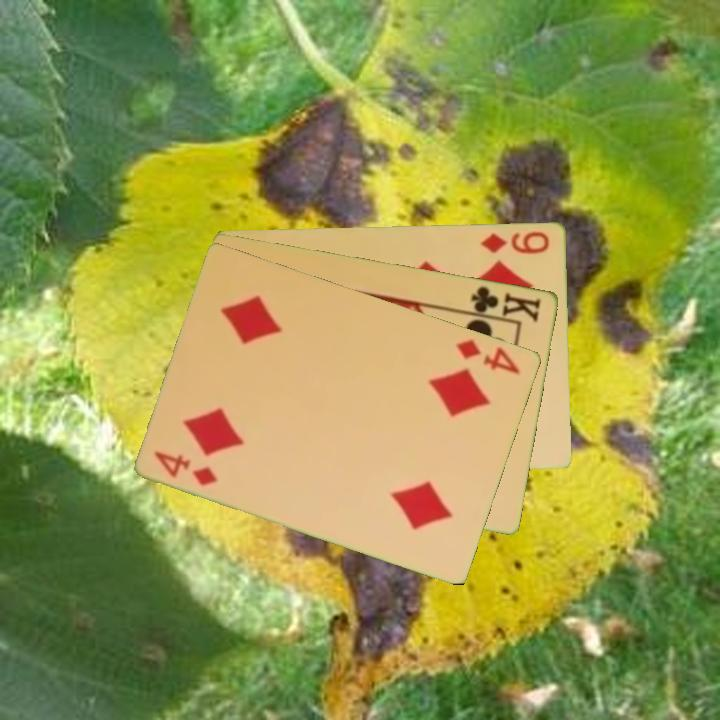4d: (452, 335, 525, 377), (151, 447, 221, 489)
9d: (477, 227, 552, 257)
Kc: (461, 282, 544, 324)
